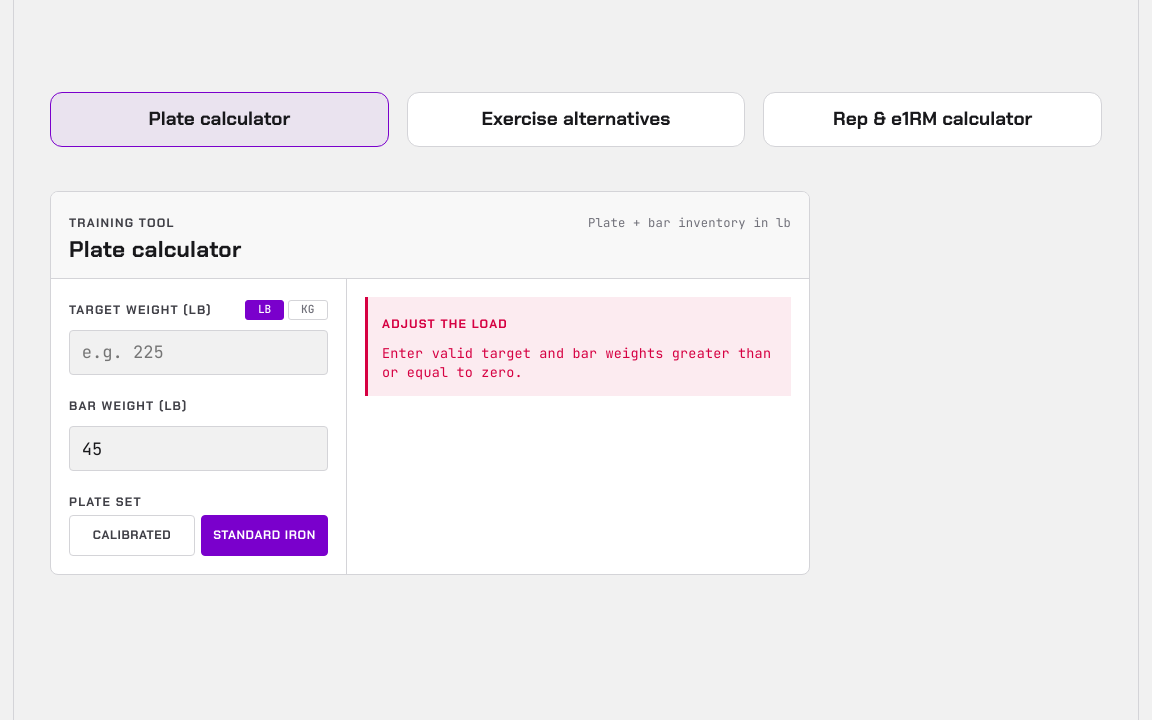
Scenario: TrainingToolsPage › offers recognizable canonical tool entry points without a connected sheet
Expected: the element "Plate calculator" is shown, [50, 191, 810, 575]
Step 1. Click the button "Exercise alternatives" → (576, 120), box [407, 92, 745, 147]
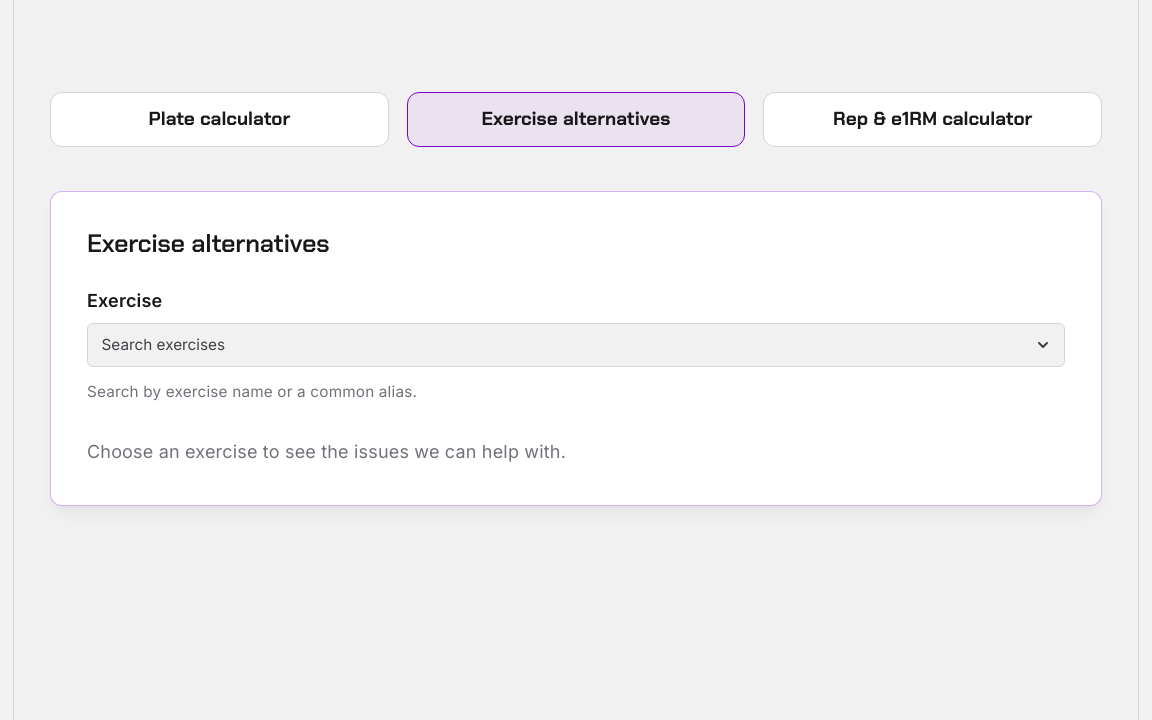
Result: the element "Exercise alternatives" is shown at [50, 191, 1102, 506]
Step 2. Click the button "Rep & e1RM calculator" → (933, 120), box [763, 92, 1102, 147]
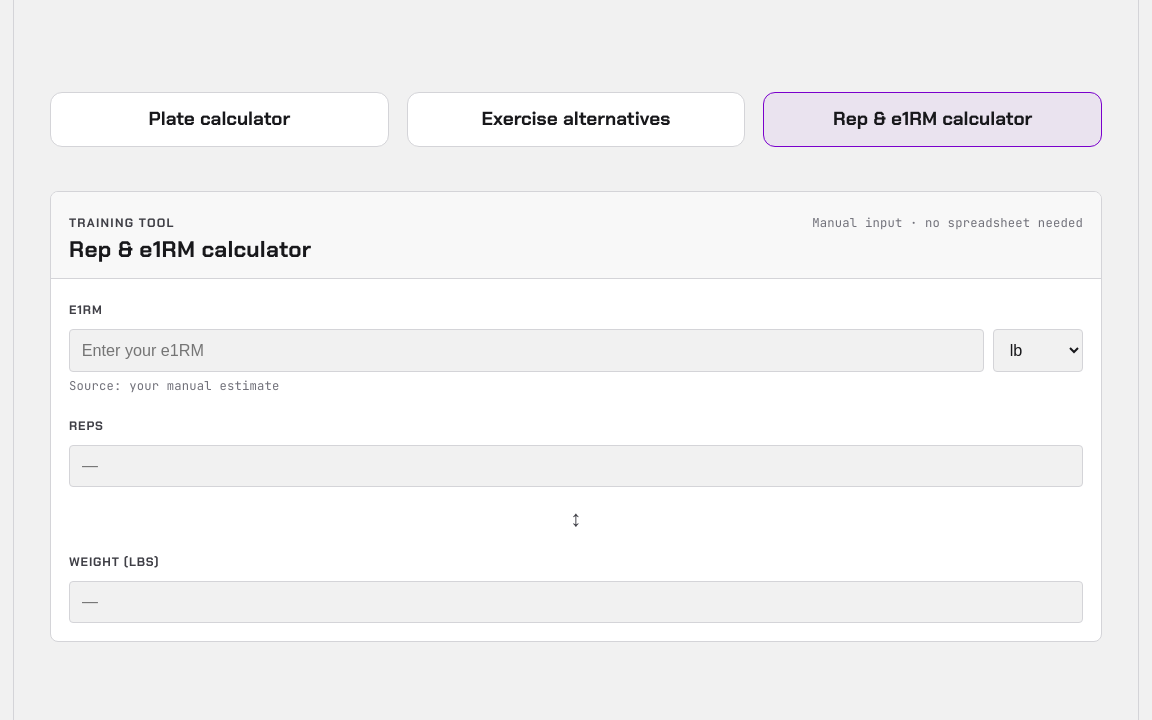
Result: the element named "Rep and e1RM calculator" is shown at [50, 182, 1102, 642]
